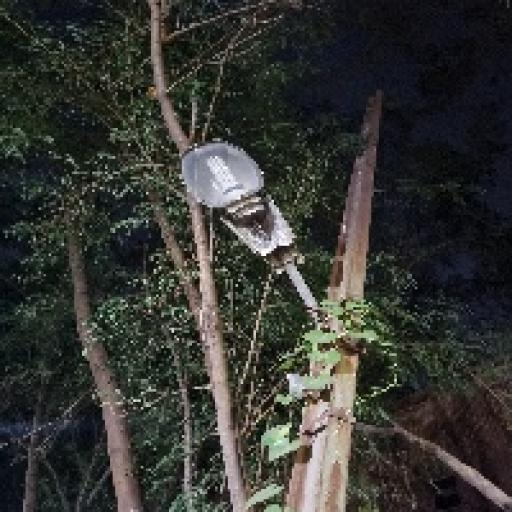Not Working: (165, 124, 325, 274)
